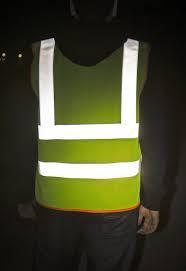Vest: (35, 35, 141, 206)
